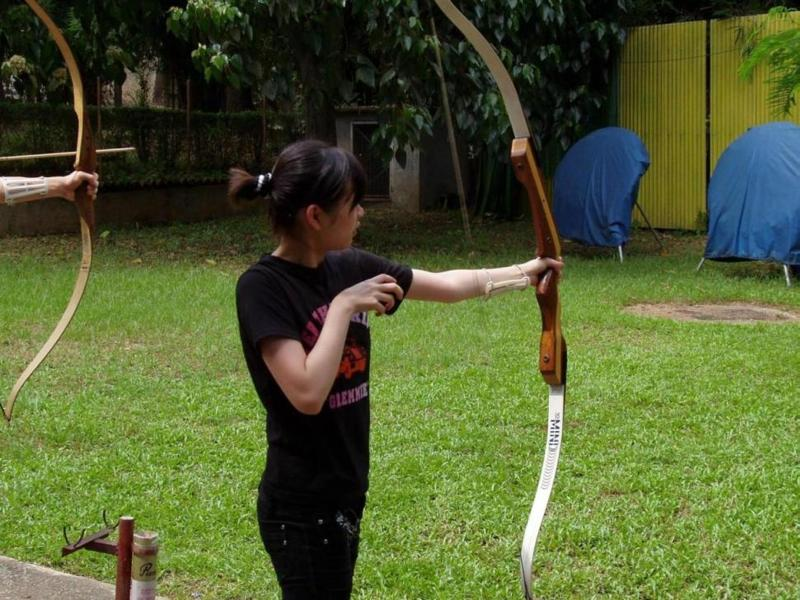person: (237, 136, 563, 598)
